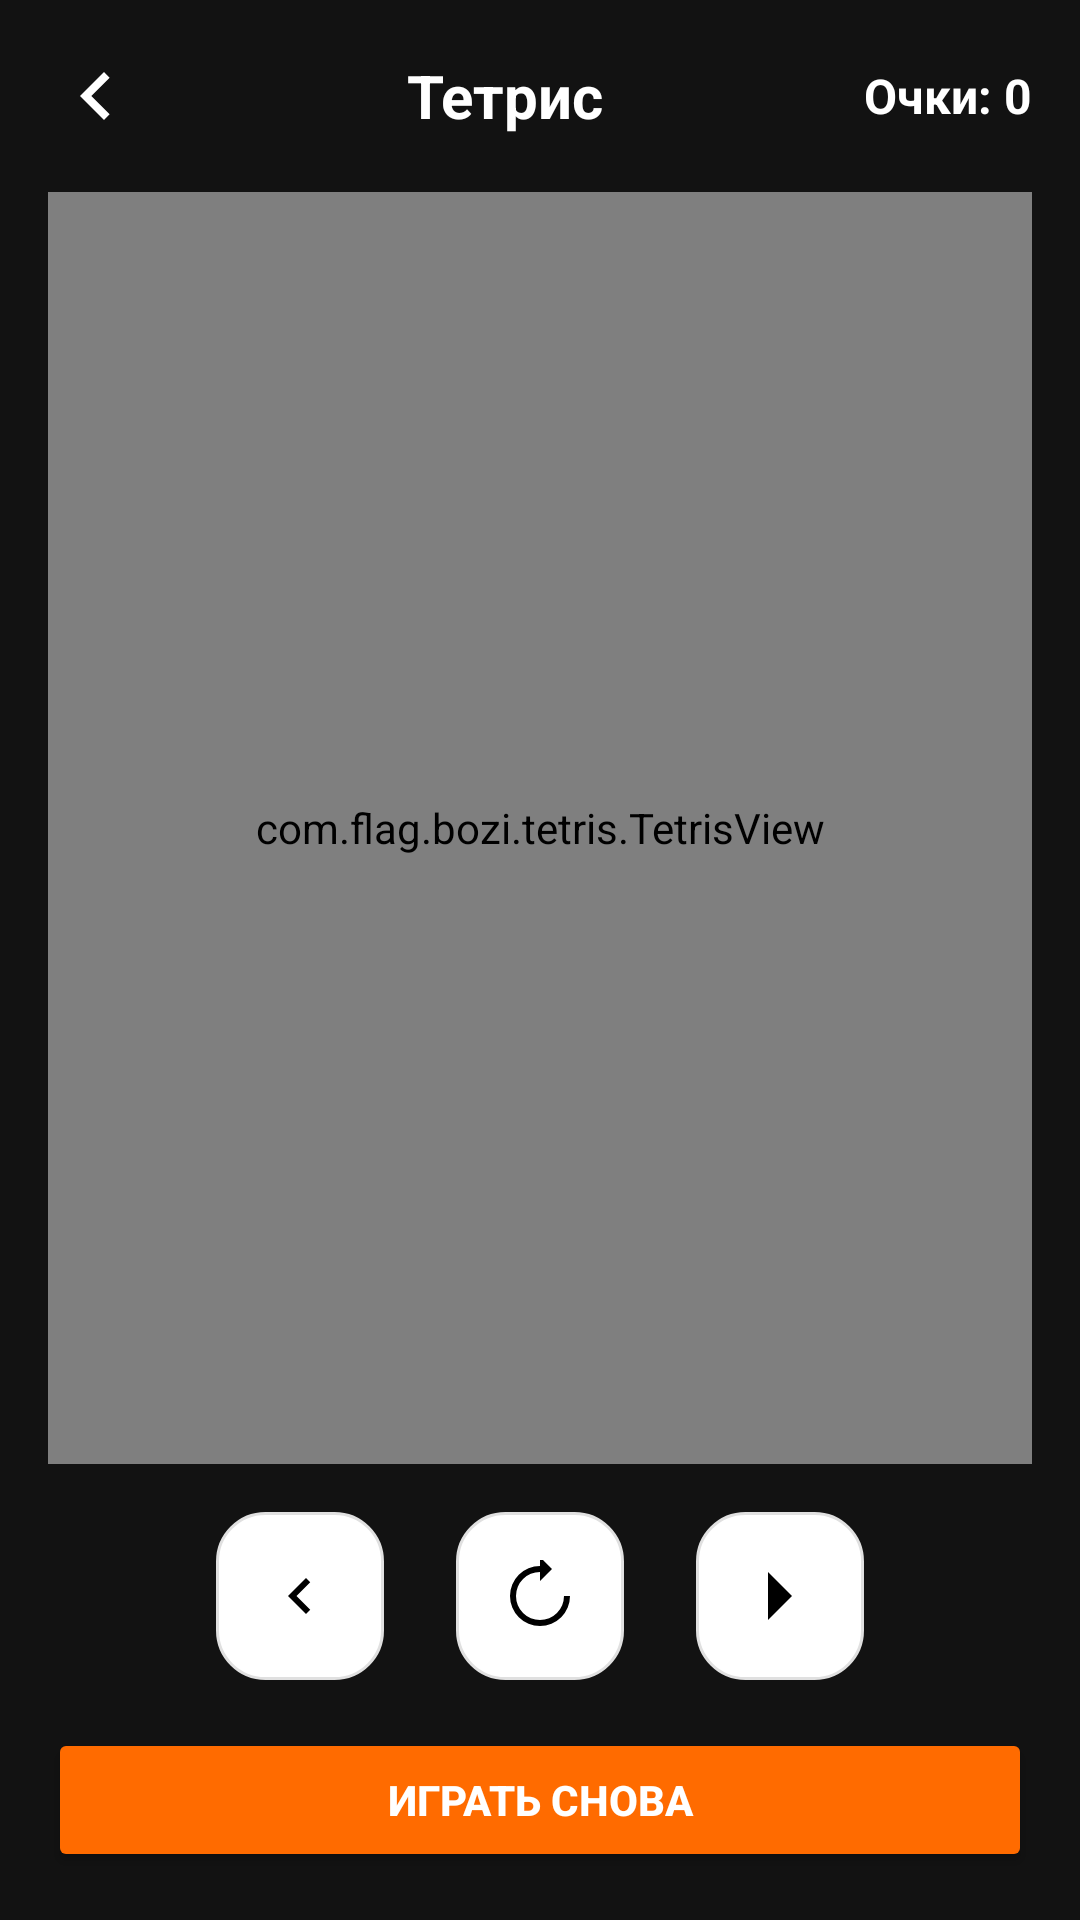

Icons on this 1080x1920 Android screen, each with its box as [left=x1, top=y1, right=x2, bottom=y2]:
Влево: [left=216, top=1512, right=384, bottom=1680]
Вправо: [left=696, top=1512, right=864, bottom=1680]
Назад: [left=80, top=72, right=110, bottom=120]
Повернуть: [left=456, top=1512, right=624, bottom=1680]
